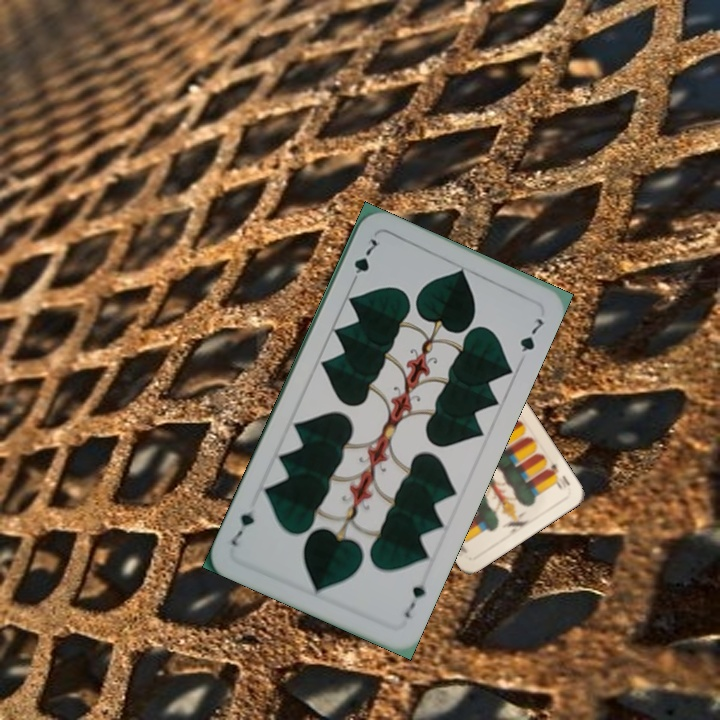E10: (543, 460, 573, 493)
G7: (347, 234, 381, 288), (400, 574, 430, 620)
